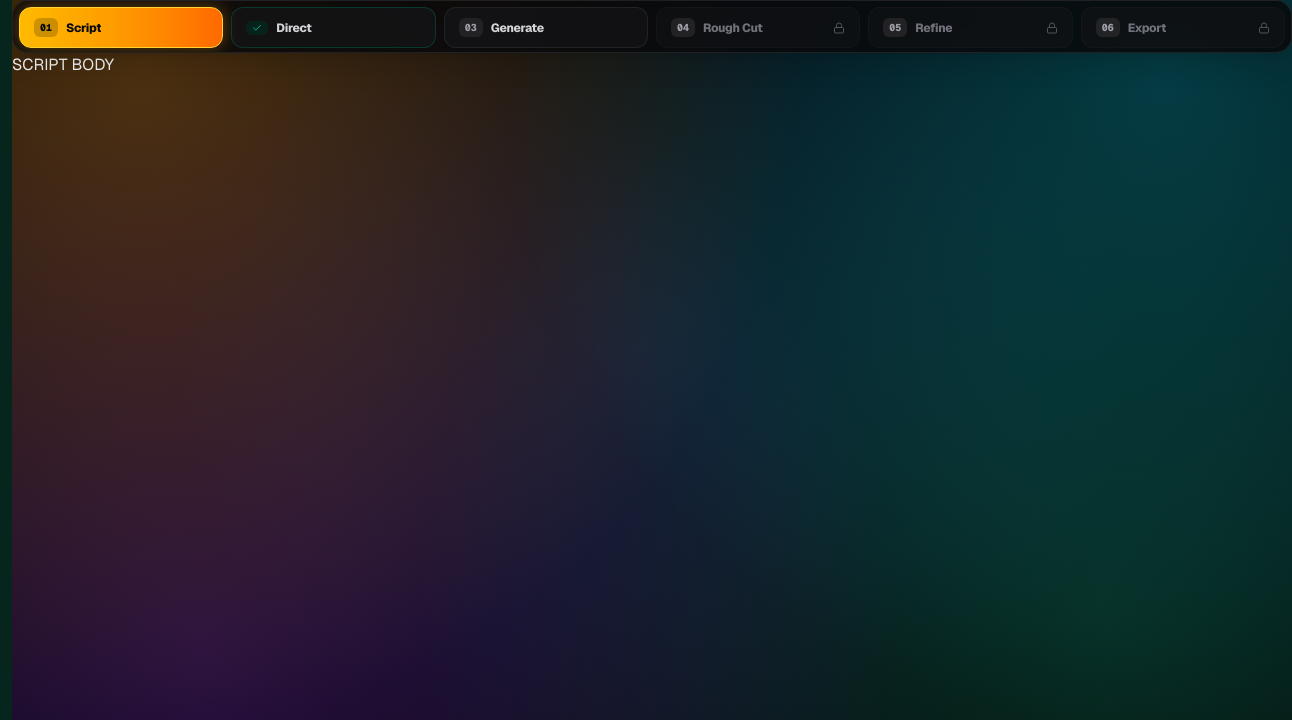
Test: the stage nav, driven by real React click events › clicking Direct renders the Direct branch
Expected: the text with test id "stage-body" reads "SCRIPT BODY", [12,54,114,75]
Expected: the text "Back to Script" is not shown
Click the button "Direct" at (333, 28), box [231,7,436,48]
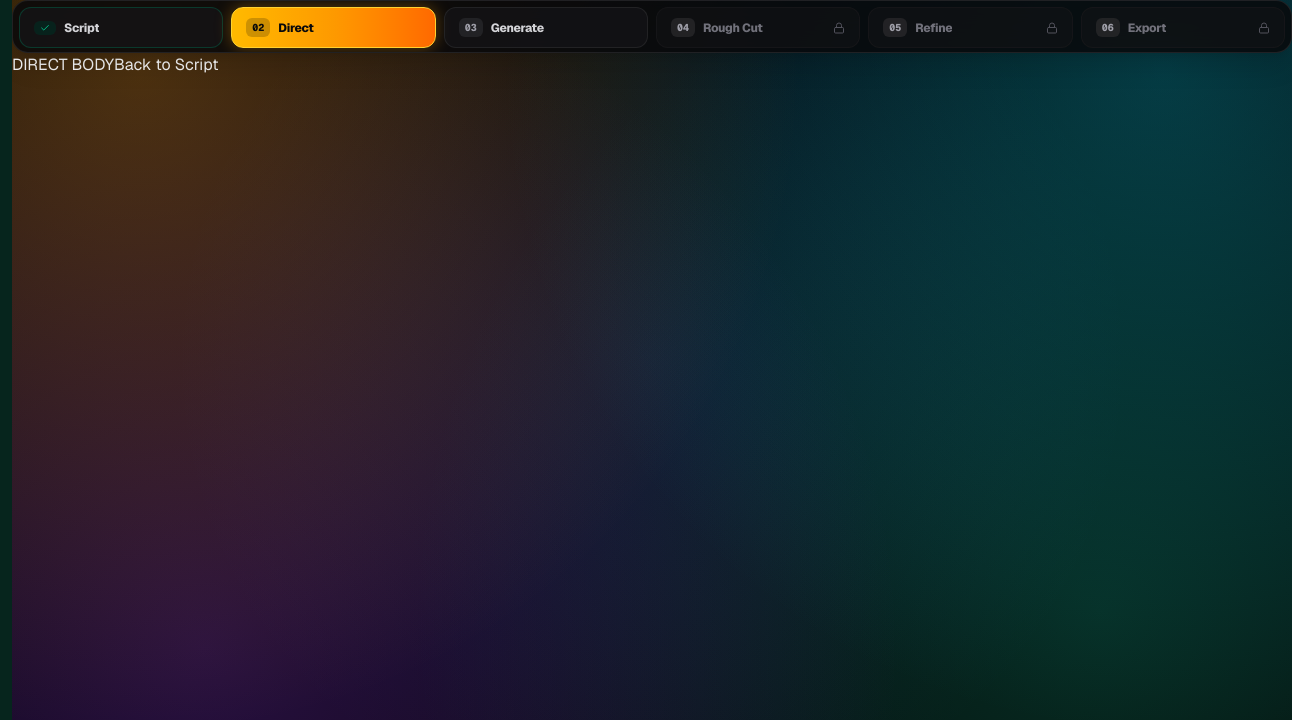
Now the element with test id "stage-body" shows "DIRECT BODY", box [12,54,114,75]
Now the button "Back to Script" is shown, box [114,53,219,77]
